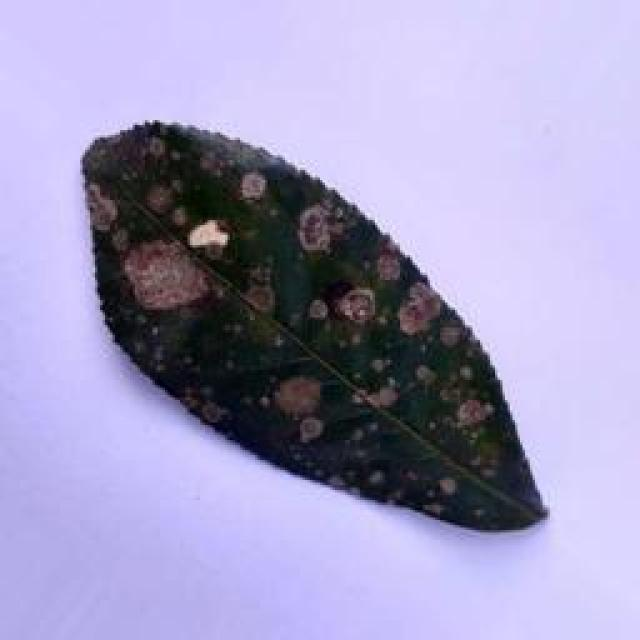Algal Leaf Spot: (72, 112, 540, 530)
